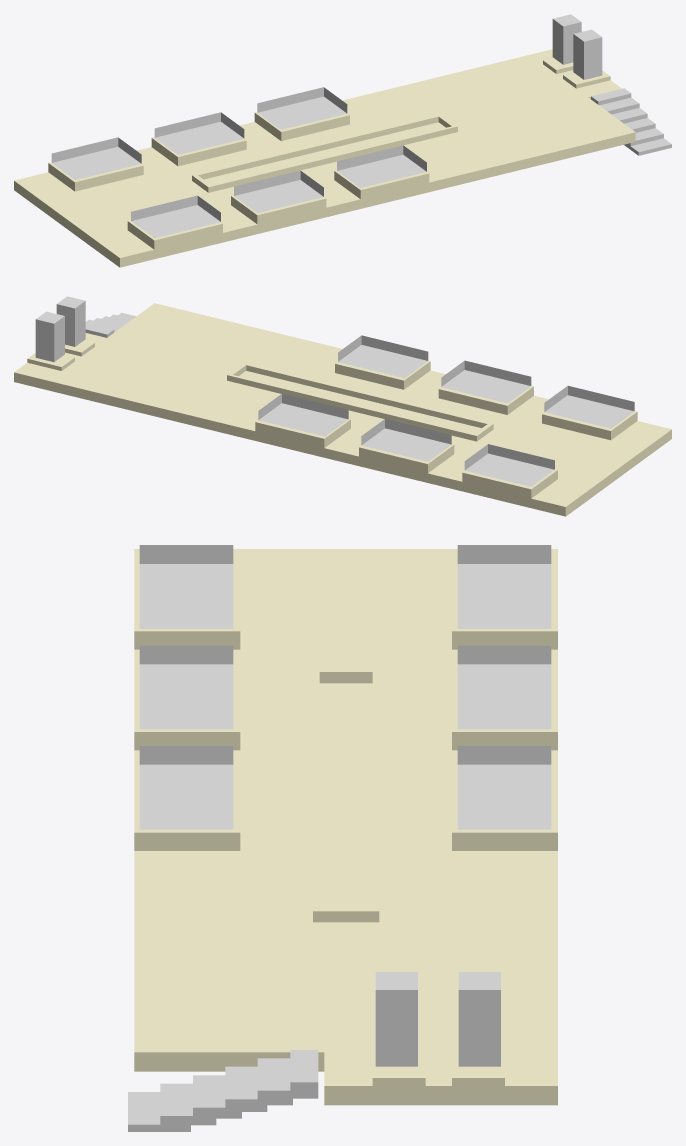
File: map-level.glb
3 views of the same model, one above another, from view 1: azimuth 30°, elevation 25°; view 2: azimuth 150°, elevation 25°; view 3: azimuth 270°, elevation 25° (orthographic). The views are drawn at different scales.
Parts seen in each view (by area): view 1: Plane, Store2, Store1, Store3, Store4, Store6, Store5, Stairs, Lift2, Lift1; view 2: Plane, Store4, Store2, Store3, Store6, Store5, Store1, Lift1, Lift2, Stairs; view 3: Plane, Stairs, Store5, Store2, Store4, Store6, Store1, Store3, Lift2, Lift1.
Part boxes in pixels (left/top/right/bottom): Plane: left=14, top=49, right=635, bottom=267; Store2: left=154, top=112, right=244, bottom=154; Store1: left=51, top=137, right=141, bottom=179; Store3: left=257, top=87, right=347, bottom=129; Store4: left=131, top=195, right=220, bottom=238; Store6: left=337, top=145, right=426, bottom=187; Store5: left=234, top=170, right=323, bottom=212; Stairs: left=591, top=88, right=671, bottom=155; Lift2: left=573, top=29, right=602, bottom=79; Lift1: left=552, top=14, right=581, bottom=64; Plane: left=14, top=303, right=671, bottom=516; Store4: left=544, top=385, right=634, bottom=428; Store2: left=361, top=419, right=451, bottom=461; Store3: left=258, top=394, right=348, bottom=436; Store6: left=338, top=335, right=428, bottom=378; Store5: left=441, top=360, right=531, bottom=403; Store1: left=464, top=444, right=554, bottom=486; Lift1: left=35, top=311, right=64, bottom=361; Lift2: left=56, top=296, right=85, bottom=346; Stairs: left=85, top=312, right=135, bottom=337; Plane: left=134, top=549, right=557, bottom=1105; Stairs: left=128, top=1050, right=318, bottom=1131; Store5: left=139, top=645, right=233, bottom=729; Store2: left=457, top=645, right=551, bottom=729; Store4: left=139, top=545, right=233, bottom=628; Store6: left=139, top=746, right=233, bottom=829; Store1: left=457, top=545, right=551, bottom=628; Store3: left=457, top=746, right=551, bottom=829; Lift2: left=375, top=972, right=417, bottom=1066; Lift1: left=458, top=972, right=500, bottom=1066.
Size of the model in its own units: 60.02 by 7 by 20.31.
